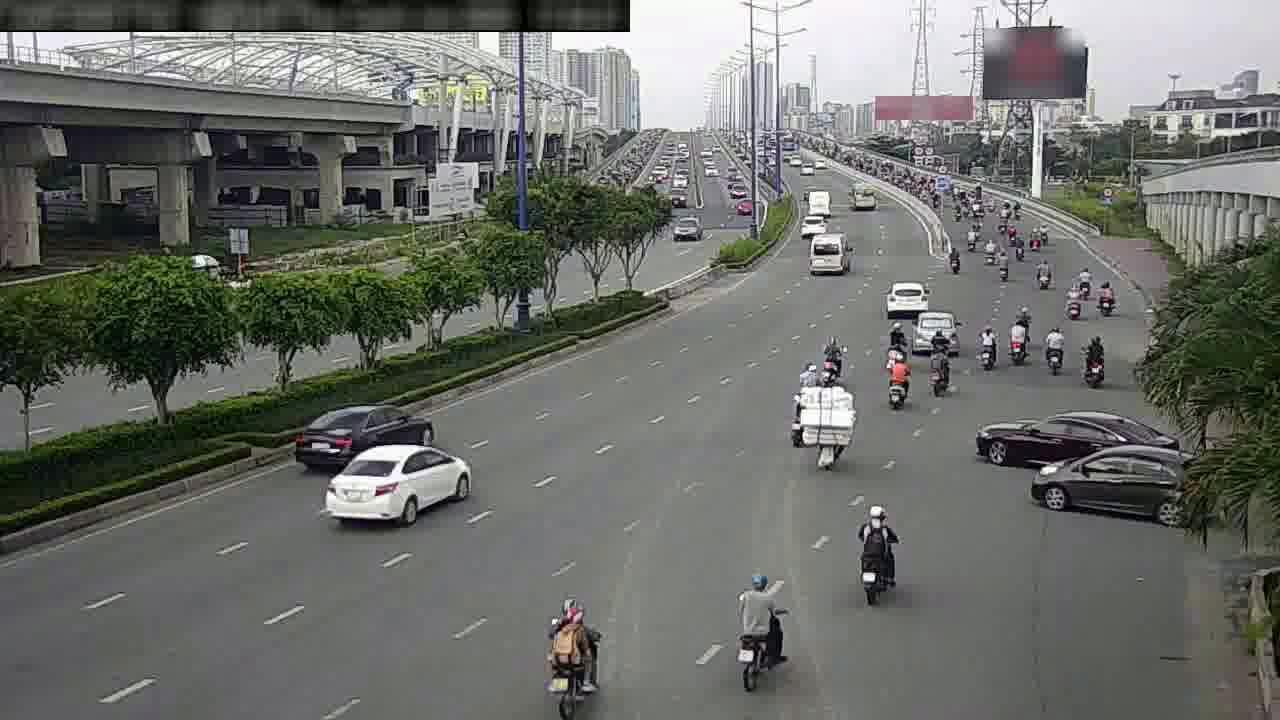container: (962, 388, 1189, 501), (320, 435, 473, 529), (299, 395, 434, 471), (902, 305, 964, 356), (877, 272, 932, 318)
motorbike: (540, 598, 606, 710), (731, 572, 792, 678), (845, 507, 904, 599), (798, 397, 854, 471), (877, 354, 913, 411), (805, 337, 844, 387), (1076, 336, 1112, 389), (923, 347, 958, 400), (1038, 328, 1070, 376), (969, 321, 1000, 370), (1000, 318, 1031, 365), (1092, 275, 1119, 317), (1059, 285, 1086, 323), (1030, 256, 1056, 293), (940, 244, 967, 279), (992, 249, 1015, 284), (1071, 265, 1094, 299)
